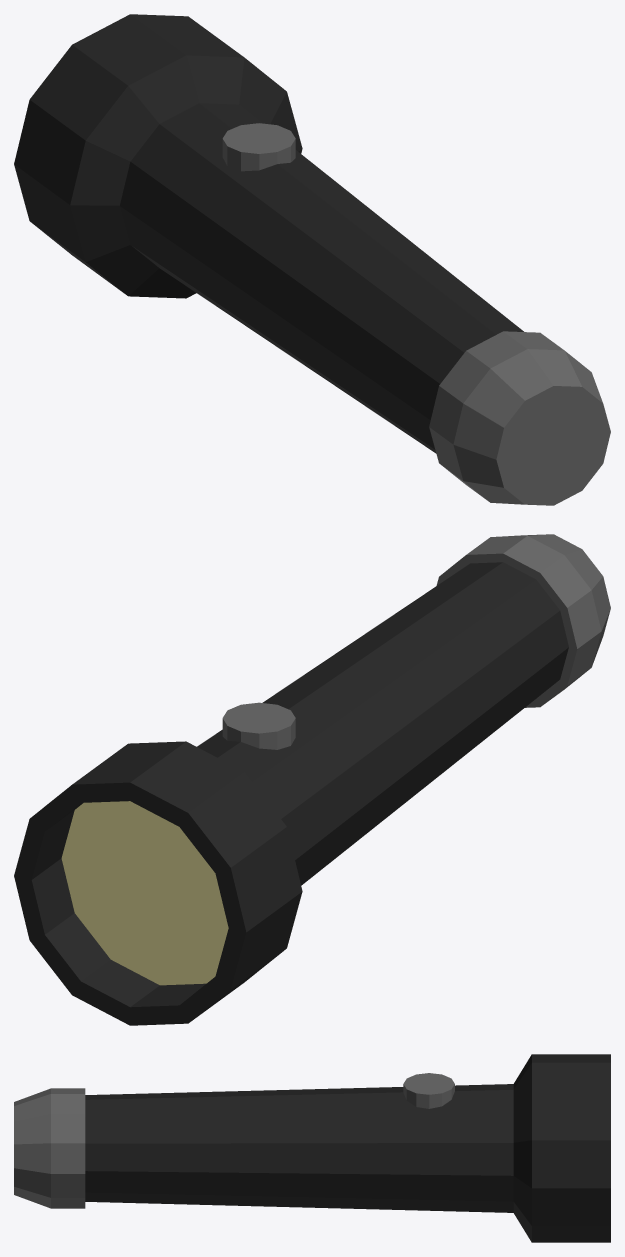
File: flashlight.glb
The picture shows the model from 3 angles, top to bottom: view 1: azimuth 30°, elevation 25°; view 2: azimuth 150°, elevation 25°; view 3: azimuth 270°, elevation 25°; orthographic projection. The views are drawn at different scales.
Visible parts, largest first — view 1: flashlight-main, flashlight-base, flashlight-button; view 2: flashlight-main, flashlight-glass, flashlight-base, flashlight-button; view 3: flashlight-main, flashlight-base, flashlight-button.
Part boxes in pixels (<box>): flashlight-main: <box>14,14,523,453</box>; flashlight-base: <box>429,331,610,505</box>; flashlight-button: <box>222,123,295,171</box>; flashlight-main: <box>14,562,568,1025</box>; flashlight-glass: <box>61,801,228,985</box>; flashlight-base: <box>436,534,610,707</box>; flashlight-button: <box>222,702,295,749</box>; flashlight-main: <box>85,1054,610,1242</box>; flashlight-base: <box>14,1088,85,1208</box>; flashlight-button: <box>403,1073,454,1108</box>.
Size of the model in its own units: 2.92 by 2.92 by 9.22.
